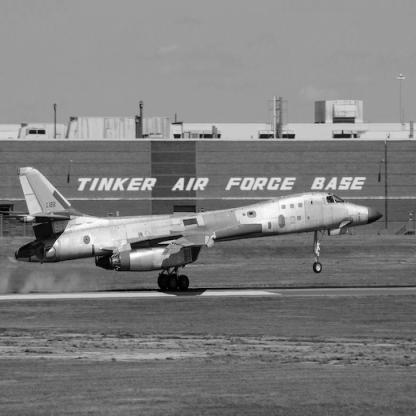B1: (2, 168, 384, 292)
